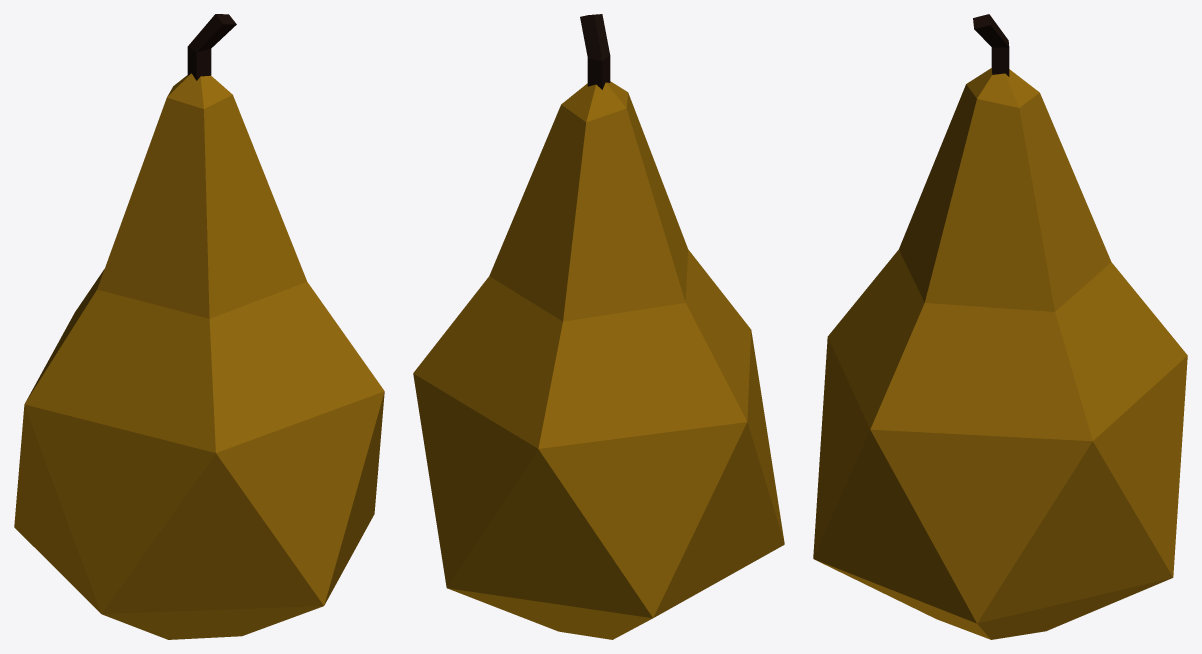
File: pear.obj
3 views of the same model, side by side, from view 1: azimuth 30°, elevation 25°; view 2: azimuth 150°, elevation 25°; view 3: azimuth 270°, elevation 25° (orthographic). The views are drawn at different scales.
Parts seen in each view (by area): view 1: Icosphere.001; view 2: Icosphere.001; view 3: Icosphere.001.
Boxes of the visible parts, left/top/right/bottom form: Icosphere.001: left=14, top=14, right=384, bottom=639; Icosphere.001: left=413, top=14, right=784, bottom=639; Icosphere.001: left=813, top=14, right=1187, bottom=639.
Size of the model in its own units: 1 by 1.79 by 0.9908.
